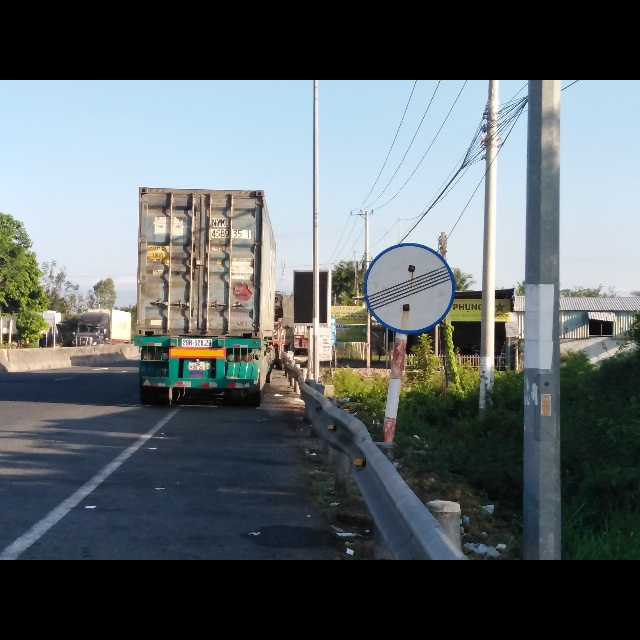Hết tất cả các lệnh cấm: (359, 241, 458, 336)
